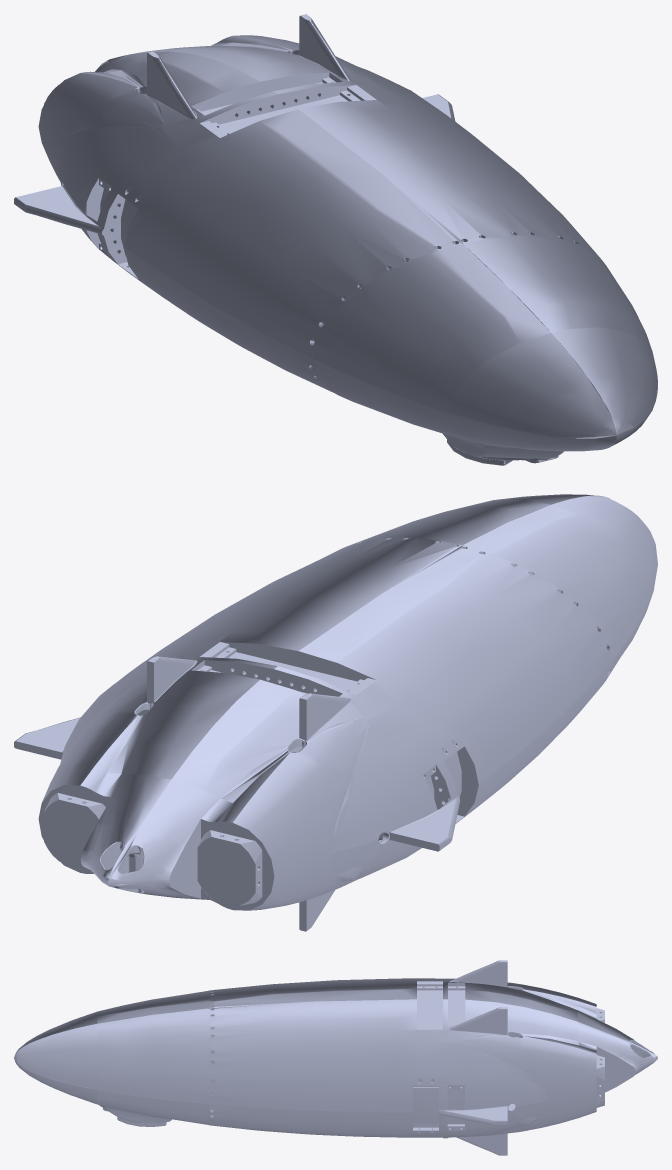
Rendered from 26 may.fbx.
3 renders of one model, top to bottom at view 1: azimuth 30°, elevation 25°; view 2: azimuth 150°, elevation 25°; view 3: azimuth 270°, elevation 25°, orthographic. The views are drawn at different scales.
Parts seen in each view (by area): view 1: Body1; view 2: Body1; view 3: Body1.
Boxes of the visible parts, <box> form: Body1: <box>14,14,657,465</box>; Body1: <box>14,494,657,931</box>; Body1: <box>14,960,657,1155</box>.
Size of the model in its own units: 720 by 375 by 1492.
